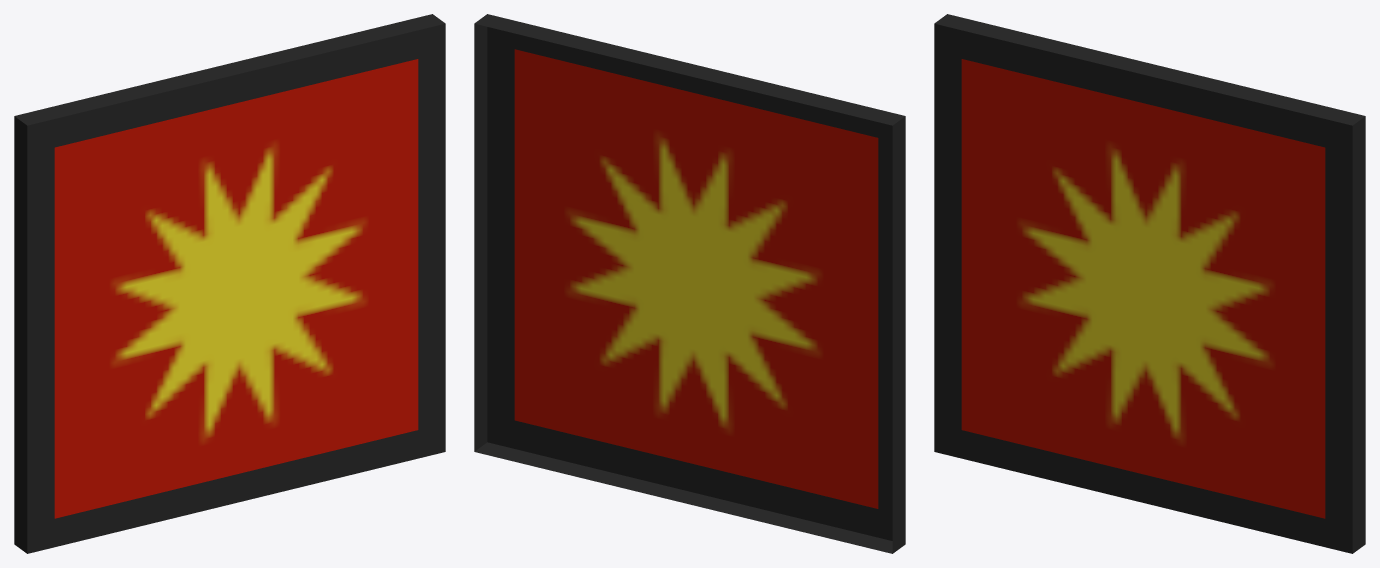
Rendered from Paint_2.fbx.
3 views of the same model, side by side, from view 1: azimuth 30°, elevation 25°; view 2: azimuth 150°, elevation 25°; view 3: azimuth 330°, elevation 25° (orthographic).
Visible parts, largest first — view 1: polySurface859; view 2: polySurface859; view 3: polySurface859.
Boxes of the visible parts, left/top/right/bottom form: polySurface859: left=14, top=14, right=445, bottom=553; polySurface859: left=474, top=14, right=905, bottom=553; polySurface859: left=934, top=14, right=1365, bottom=553.
Size of the model in its own units: 1.47 by 1.44 by 0.08.
Materials: 1 (1 with a texture image).
